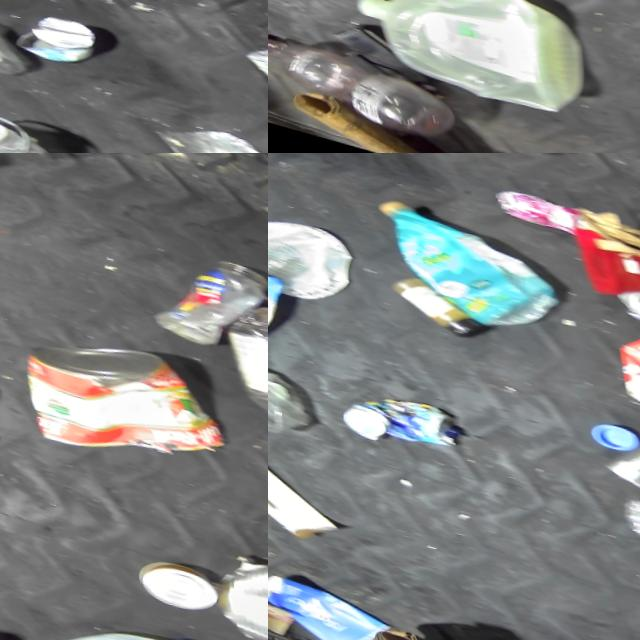can: (6, 312, 237, 481), (328, 376, 465, 465), (202, 533, 268, 640), (123, 544, 218, 611), (10, 2, 91, 69), (587, 408, 640, 502), (235, 31, 268, 99)
milk_jug: (337, 0, 592, 119), (5, 590, 201, 640)
non_white_jug: (355, 190, 570, 339)
plastic_bottle: (268, 26, 451, 142), (142, 234, 268, 354), (200, 284, 268, 451)
